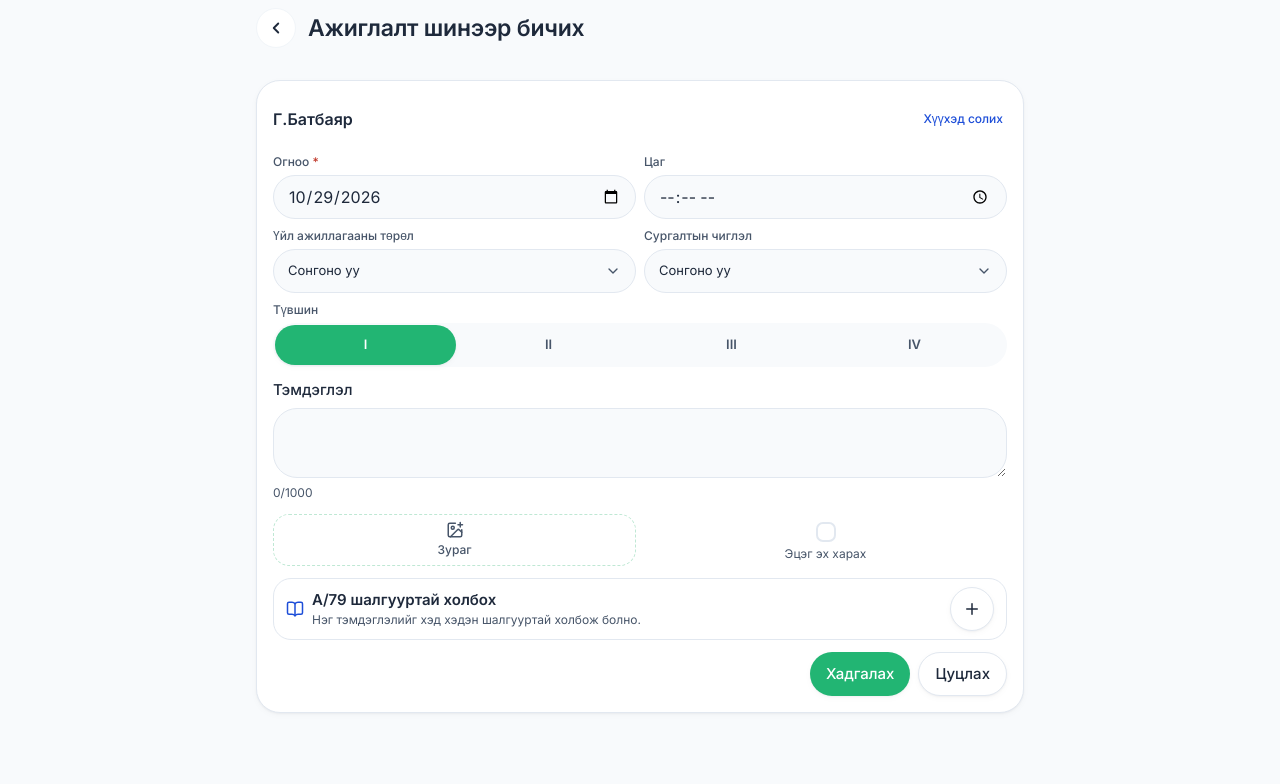
linking an observation to А/79 › removes a linked criterion from the note
Step 1. Click the button named "А/79 шалгуур нэмэх" → (972, 609), box [950,587,994,631]
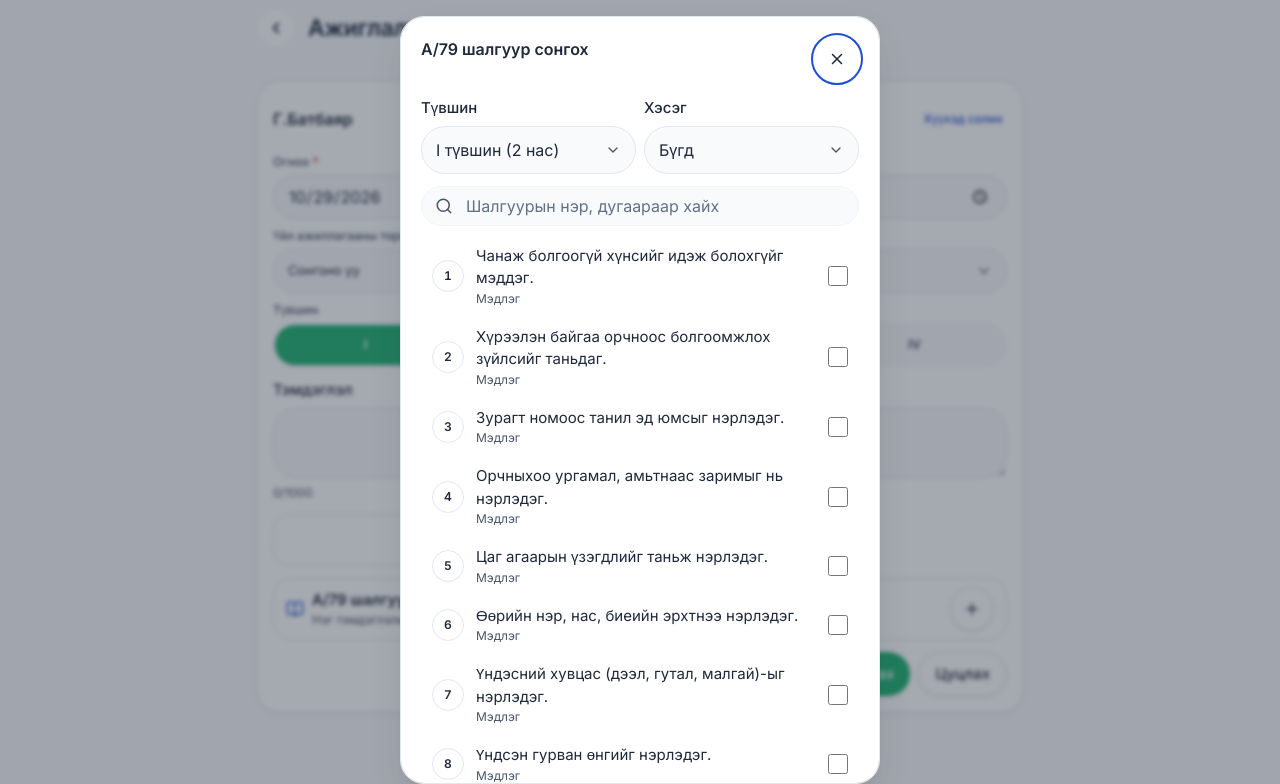
Step 2. Click the checkbox named "Ш1" → (838, 276), box [828,266,848,286]
(page scrolled)
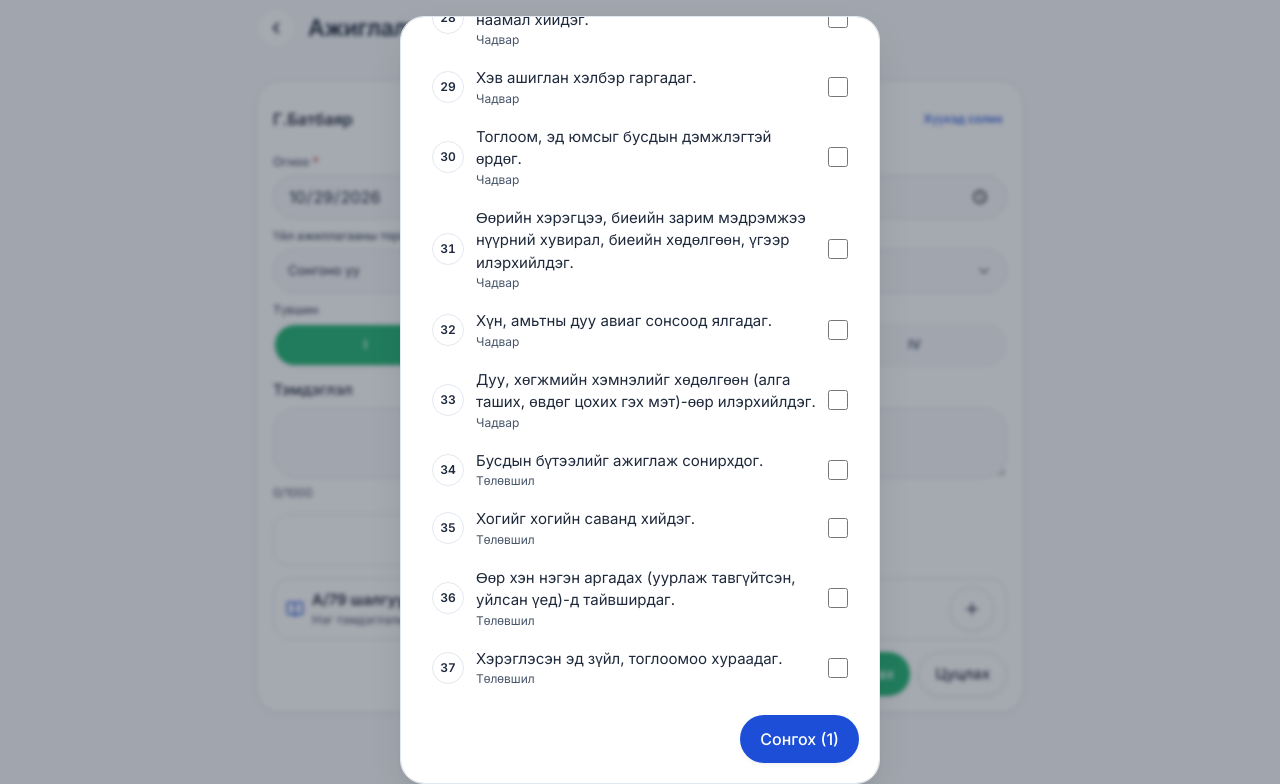
Step 3. Click the button "Сонгох (1)" → (800, 739), box [740,715,859,763]
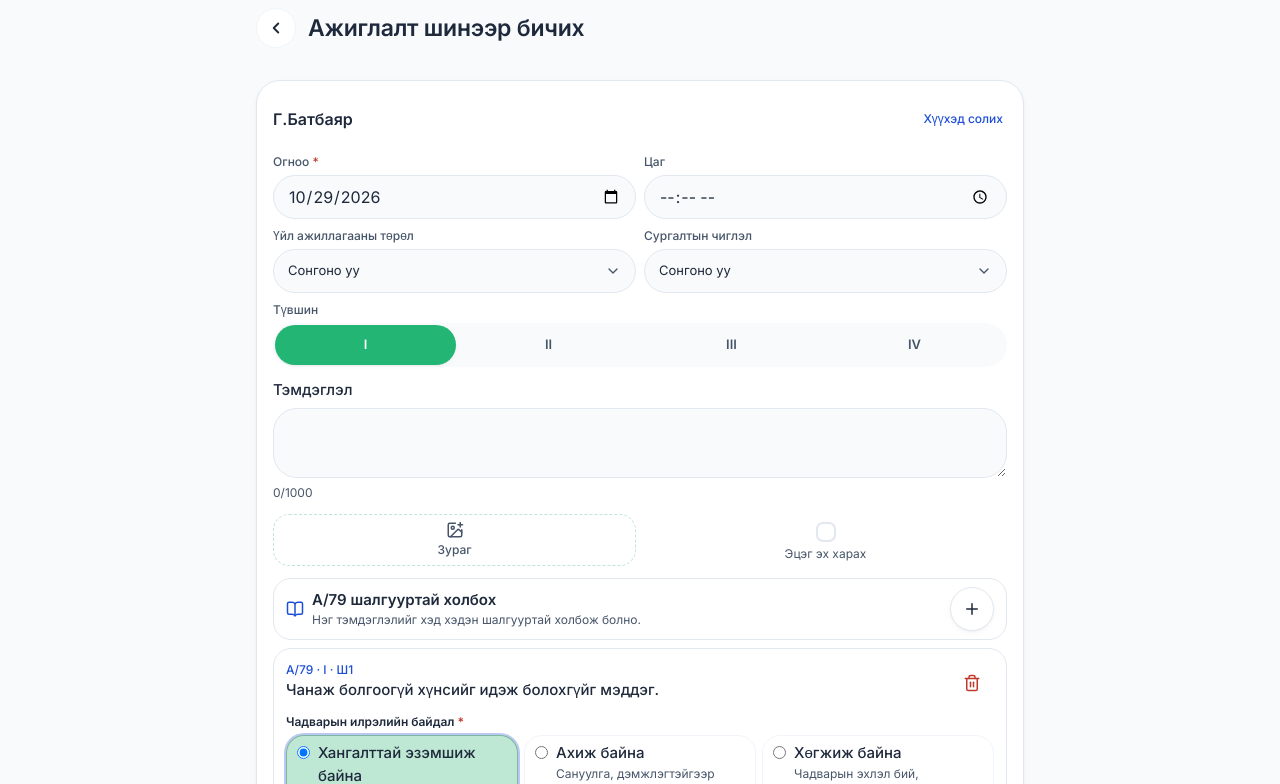
Step 4. Click the button named "А/79 · I · Ш1 хасах" → (972, 683), box [950,661,994,705]
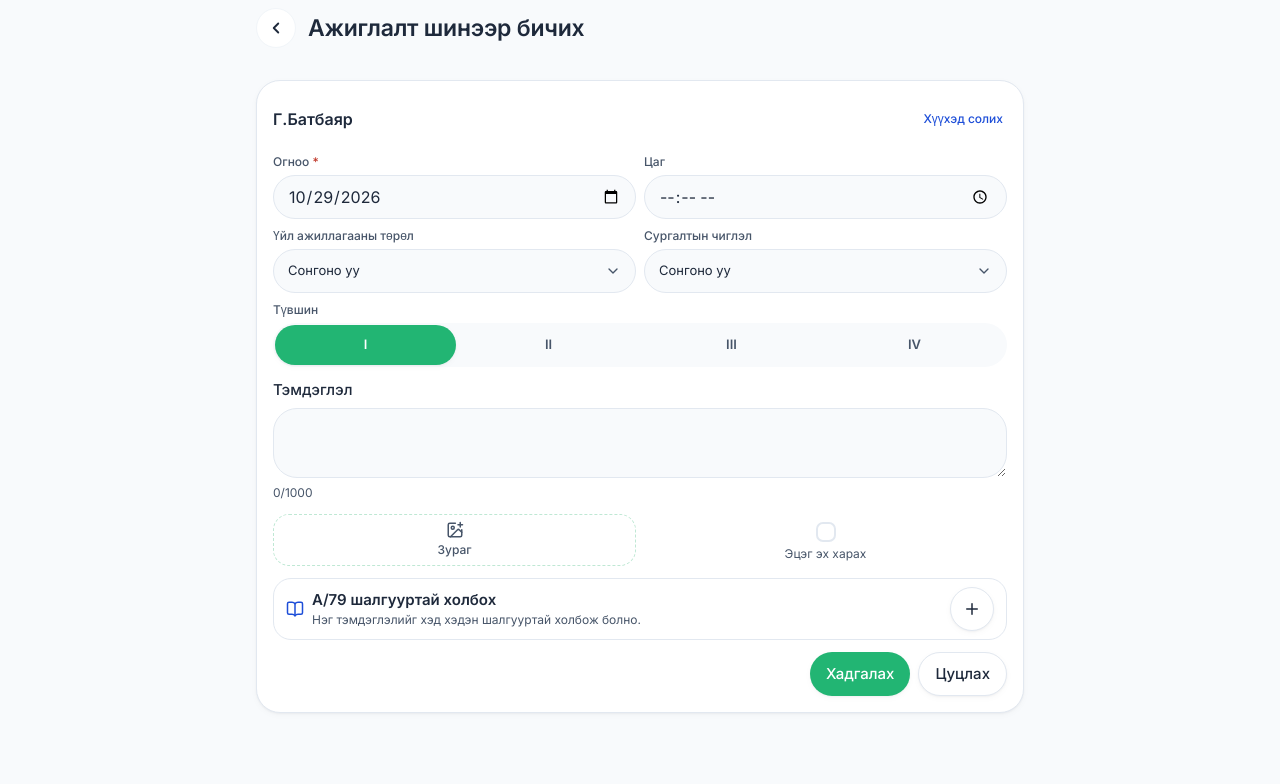
Expected: the text "А/79 · I · Ш1" is gone
